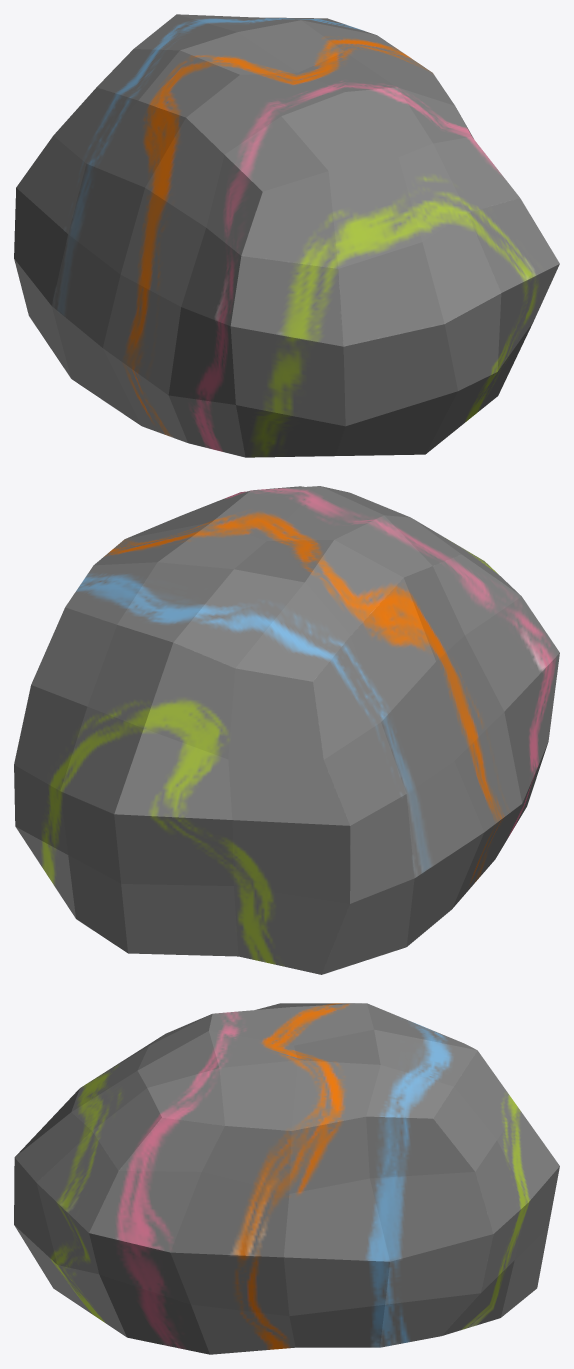
File: ROCAA 02.fbx
3 views of the same model, one above another, from view 1: azimuth 30°, elevation 25°; view 2: azimuth 150°, elevation 25°; view 3: azimuth 270°, elevation 25° (orthographic). The views are drawn at different scales.
Parts seen in each view (by area): view 1: Cube.027; view 2: Cube.027; view 3: Cube.027.
Boxes of the visible parts, x1=… form: Cube.027: x1=14, y1=14, x2=559, y2=457; Cube.027: x1=14, y1=486, x2=559, y2=974; Cube.027: x1=14, y1=1003, x2=559, y2=1354.
Bounding box in the file's own units: 255 × 211 × 365.
Materials: 1 (1 with a texture image).
